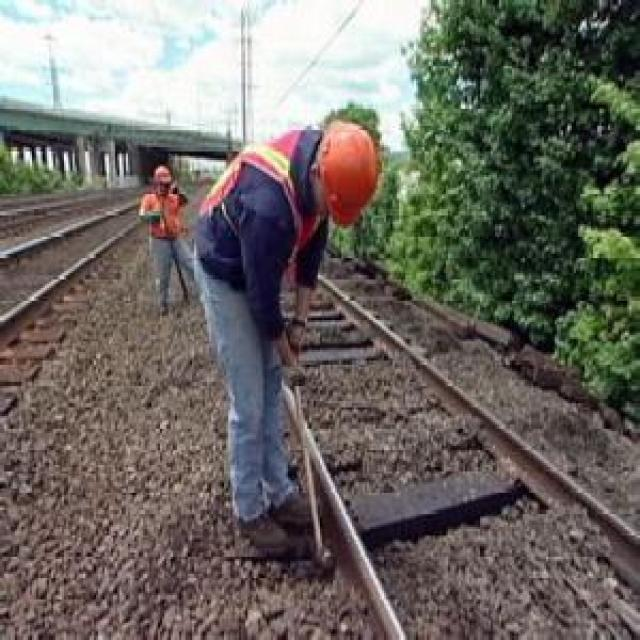rail: (266, 268, 640, 639), (1, 191, 147, 365)
